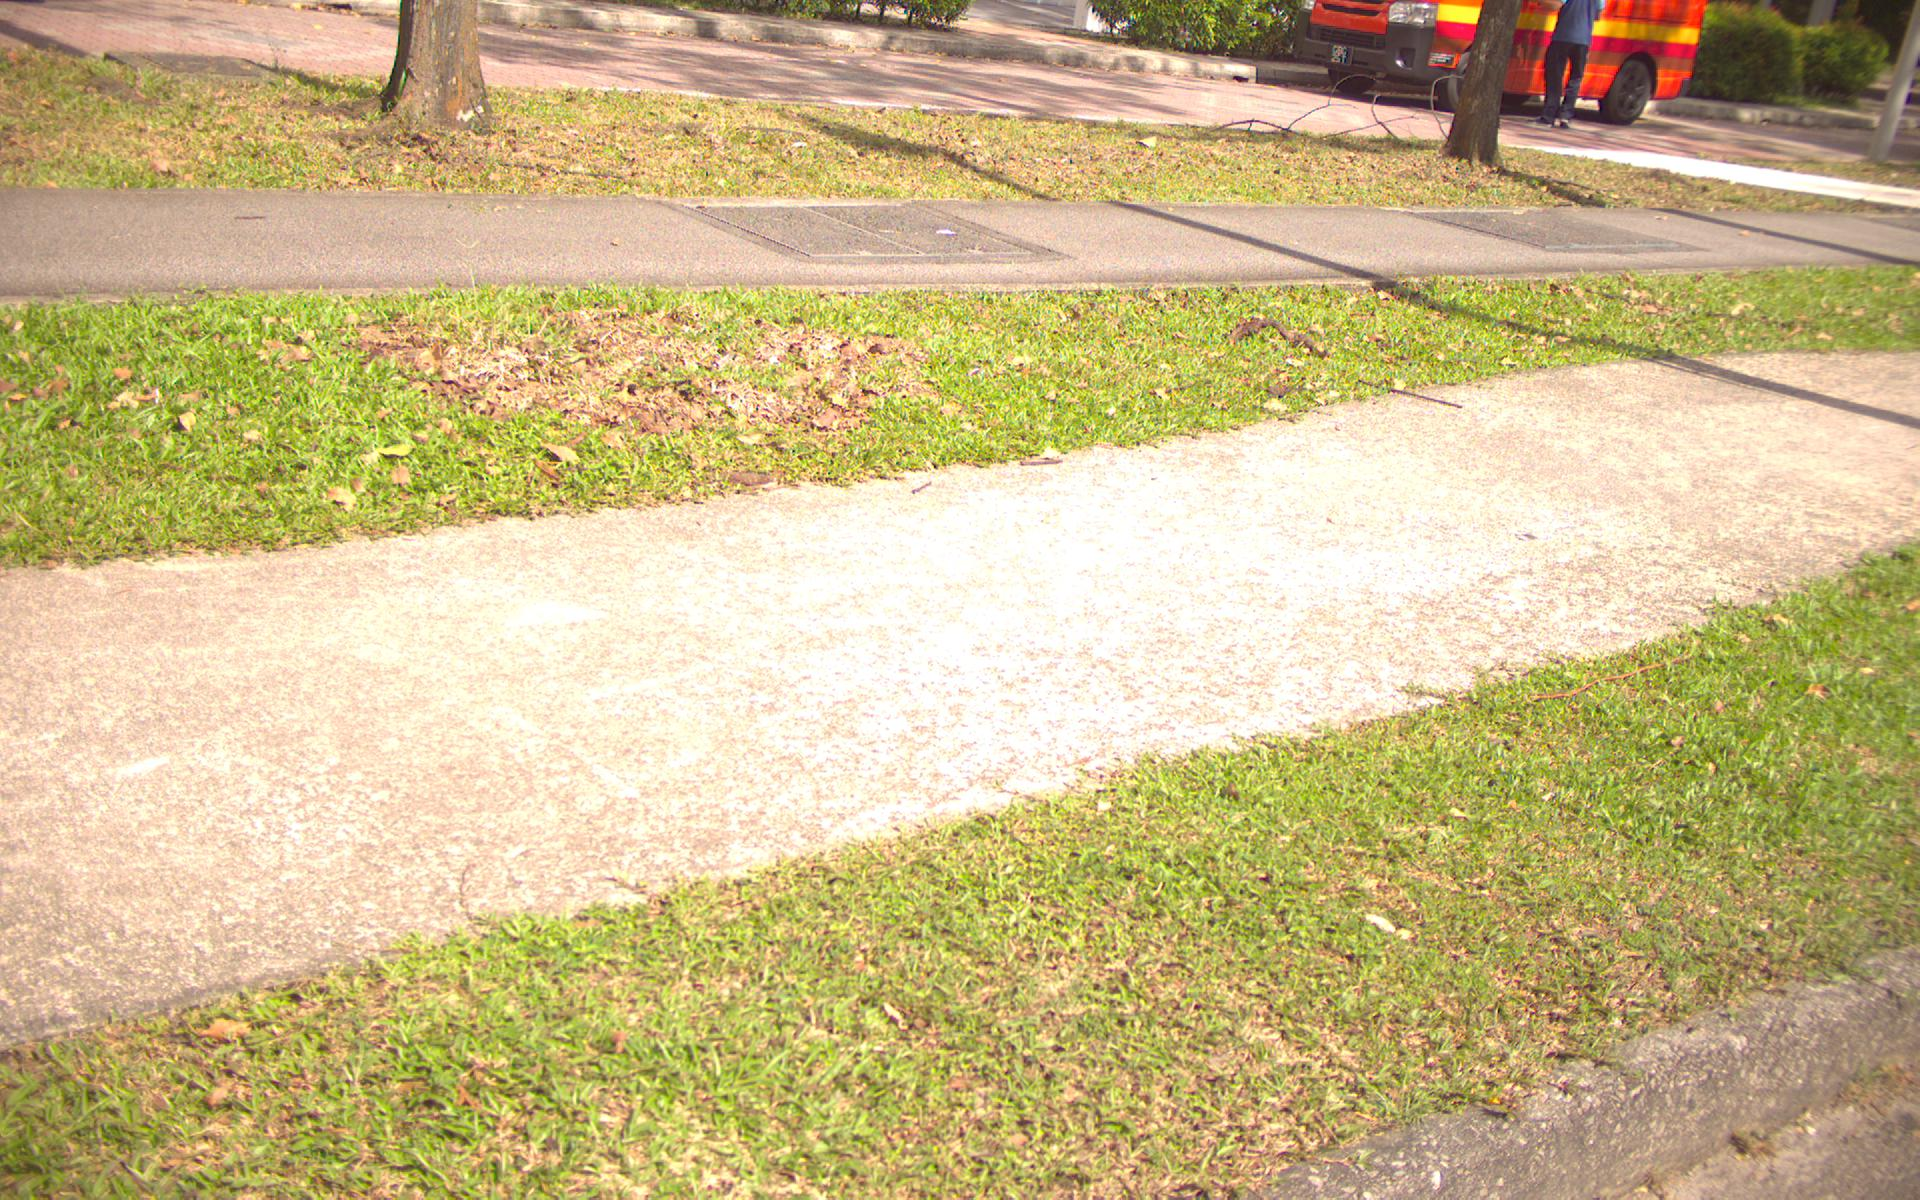pathway_low: (59, 583, 958, 823), (979, 476, 1713, 621), (58, 207, 1913, 260)
road_turf_low: (1, 101, 1503, 203), (910, 853, 1523, 1078), (64, 297, 1906, 358), (1552, 682, 1920, 962)
